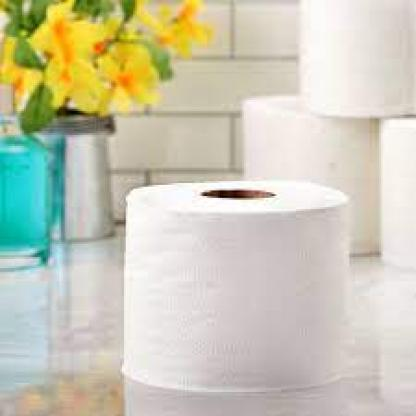tissue: (120, 178, 354, 394)
